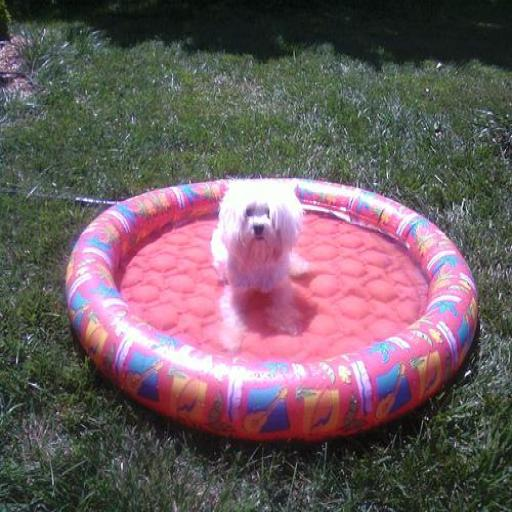dog_face: (213, 177, 301, 268)
